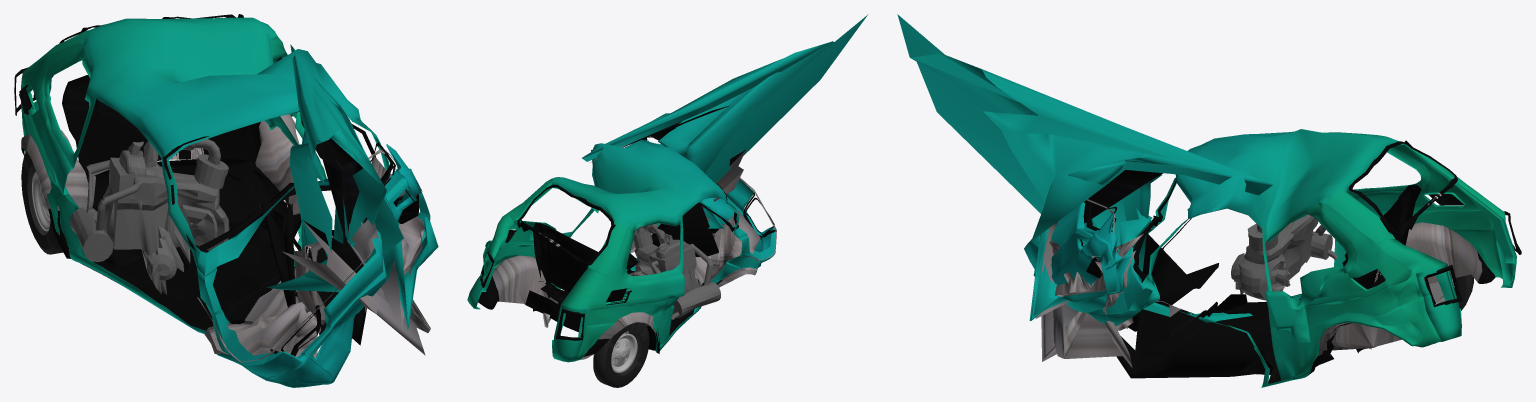
The model's file is car_2.fbx.
3 views of the same model, side by side, from view 1: azimuth 30°, elevation 25°; view 2: azimuth 150°, elevation 25°; view 3: azimuth 270°, elevation 25° (orthographic). The views are drawn at different scales.
Visible parts, largest first — view 1: Mesh_0159_rip, Mesh_0110_rip, Mesh_0182_rip, Mesh_0178_rip, Mesh_0187_rip.002, Mesh_0197_rip; view 2: Mesh_0159_rip, Mesh_0110_rip, Mesh_0182_rip, Mesh_0178_rip, Mesh_0187_rip.002, Mesh_0197_rip; view 3: Mesh_0159_rip, Mesh_0110_rip, Mesh_0182_rip, Mesh_0178_rip.
Boxes of the visible parts, x1=… form: Mesh_0159_rip: x1=21, y1=17, x2=438, y2=387; Mesh_0110_rip: x1=21, y1=113, x2=430, y2=357; Mesh_0182_rip: x1=14, y1=14, x2=415, y2=362; Mesh_0178_rip: x1=70, y1=139, x2=229, y2=294; Mesh_0187_rip.002: x1=21, y1=151, x2=63, y2=254; Mesh_0197_rip: x1=32, y1=171, x2=50, y2=231; Mesh_0159_rip: x1=467, y1=14, x2=868, y2=362; Mesh_0110_rip: x1=478, y1=106, x2=761, y2=359; Mesh_0182_rip: x1=480, y1=136, x2=776, y2=340; Mesh_0178_rip: x1=629, y1=223, x2=720, y2=319; Mesh_0187_rip.002: x1=593, y1=322, x2=649, y2=387; Mesh_0197_rip: x1=611, y1=333, x2=637, y2=373; Mesh_0159_rip: x1=897, y1=14, x2=1516, y2=387; Mesh_0110_rip: x1=1035, y1=169, x2=1495, y2=383; Mesh_0182_rip: x1=1031, y1=140, x2=1521, y2=360; Mesh_0178_rip: x1=1231, y1=214, x2=1337, y2=300.
Size of the model in its own units: 6.85 by 7.91 by 15.67.
Materials: 6 (4 with a texture image).
